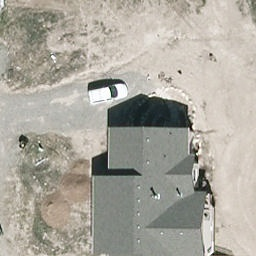car: (87, 85, 129, 106)
